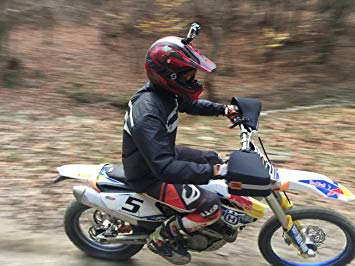helmet: (143, 35, 215, 104)
